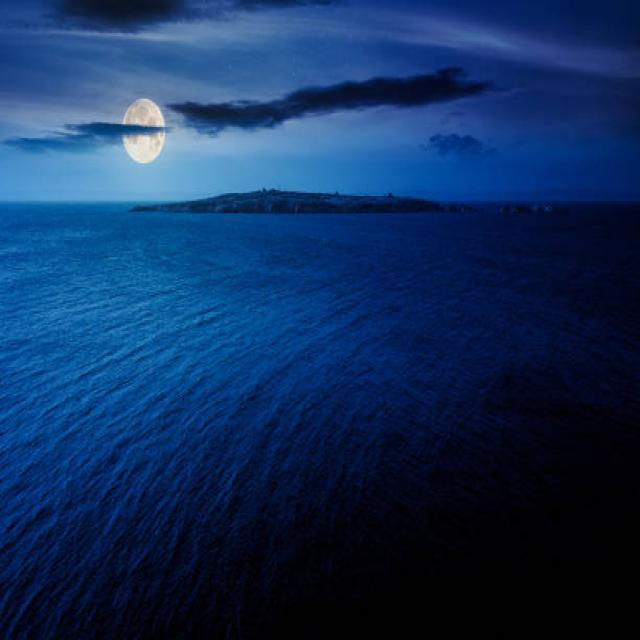moon: (119, 94, 173, 162)
